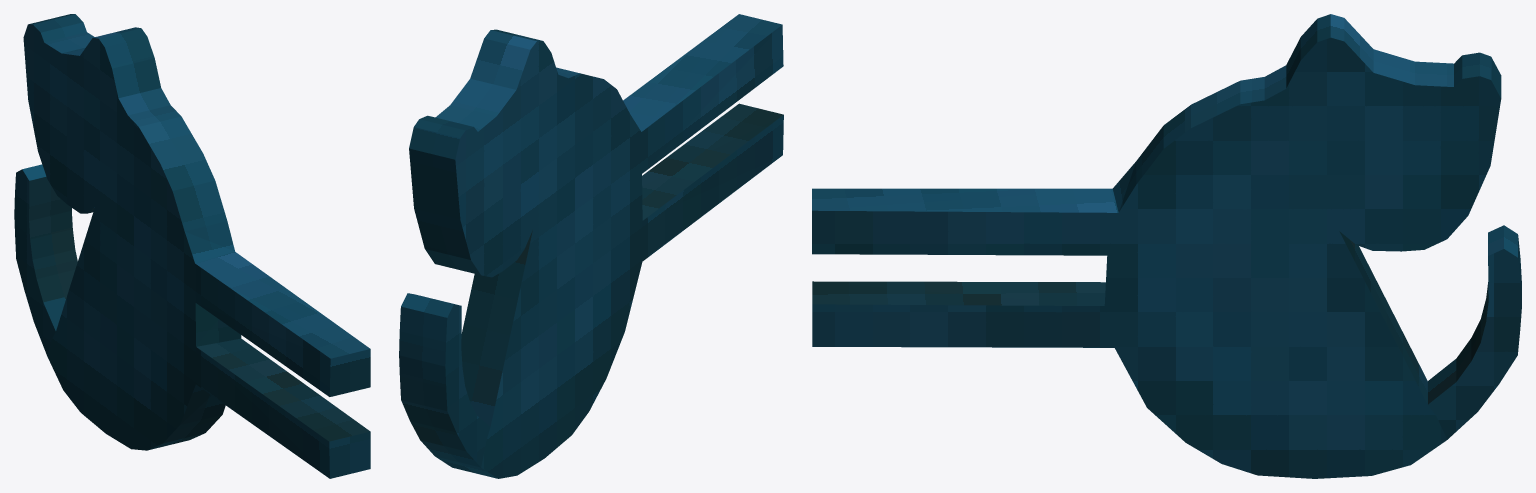
The model's file is Placa3DLuckyCat.fbx.
3 views of the same model, side by side, from view 1: azimuth 30°, elevation 25°; view 2: azimuth 150°, elevation 25°; view 3: azimuth 270°, elevation 25° (orthographic). The views are drawn at different scales.
Parts seen in each view (by area): view 1: Placa; view 2: Placa; view 3: Placa.
Part boxes in pixels (x1,y1,x2,y2): Placa: (14,14,370,478); Placa: (399,14,783,478); Placa: (812,14,1521,478).
Bounding box in the file's own units: 9.22 × 80.37 × 117.
1 material, 1 textured.
